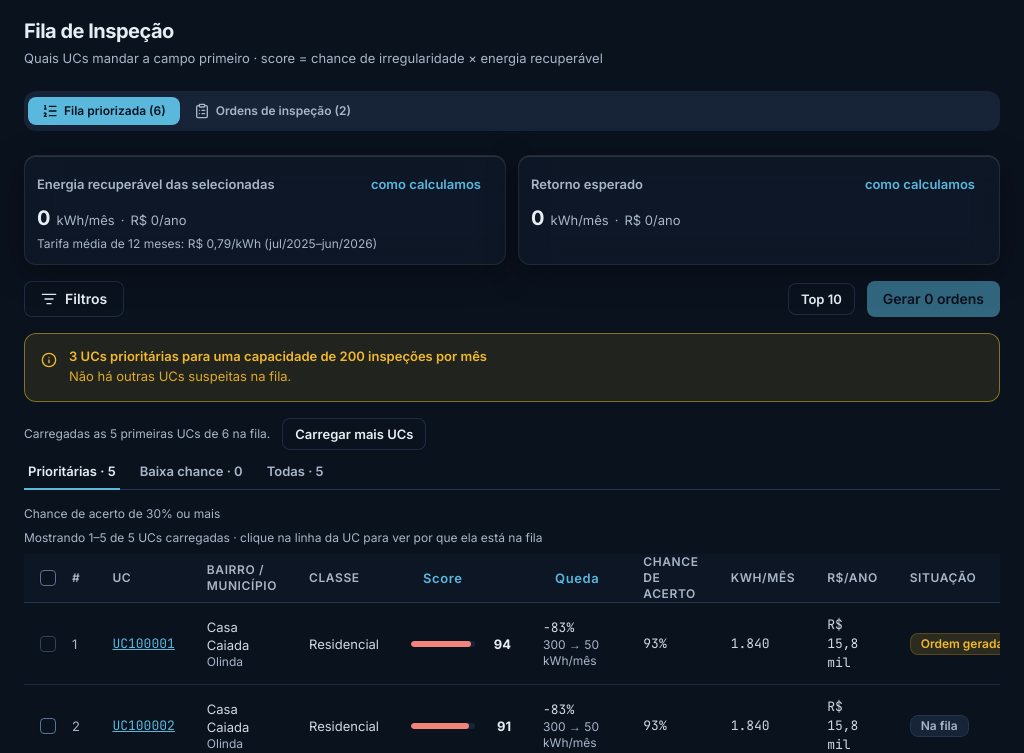
Fila de Inspeção › carrega a próxima página da fila quando há mais UCs do que as carregadas
Click the button "Carregar mais UCs" at (354, 434), box [282,418,426,450]
(page scrolled)
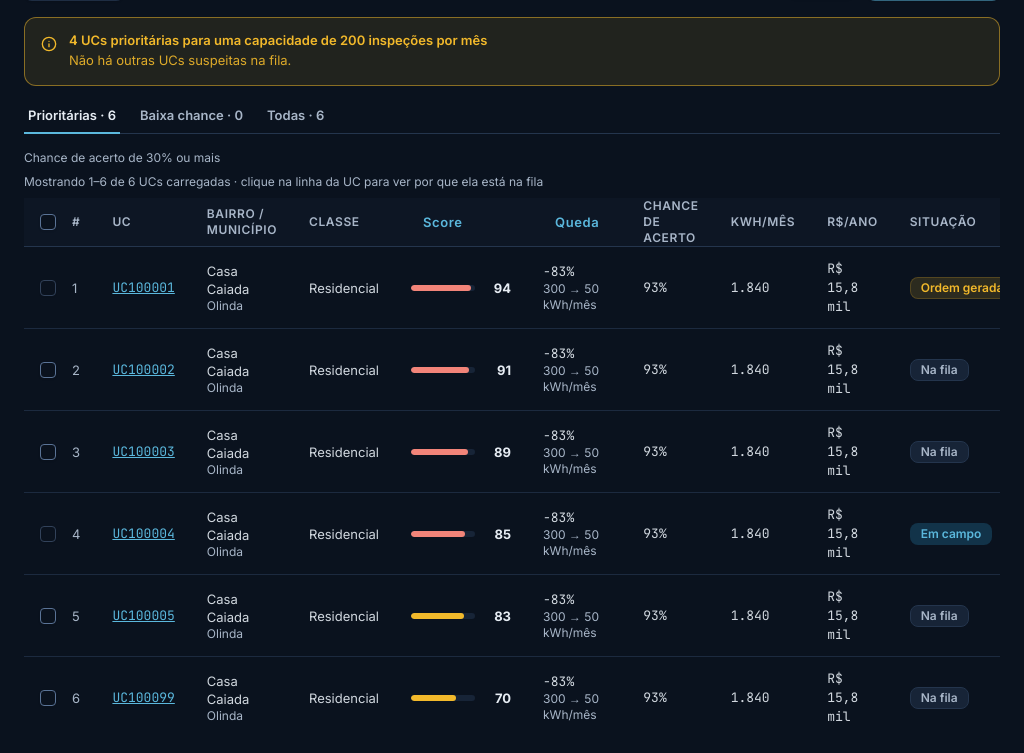
Check: the row "UC100002" is shown, box [24,328,1000,410]
Check: the row "UC100099" is shown, box [24,656,1000,738]
Check: the button "Carregar mais UCs" is gone
